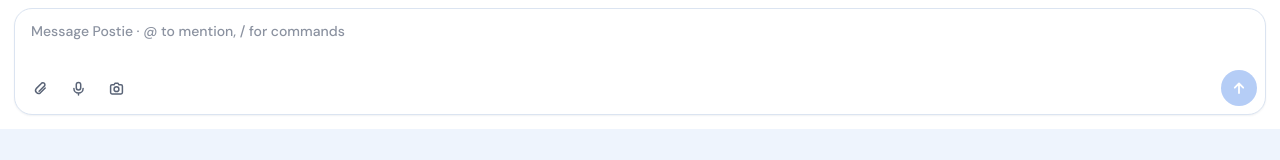
Test case: @ mentions in a one-to-one chat › draws a completed mention as a chip and says what it does on the hint line
The image size is (1280, 160).
Type "@father make Postie firmer" into the text box labelled "Message Postie · @ to mention, / for commands" at (640, 39), box [15,9,1265,68]
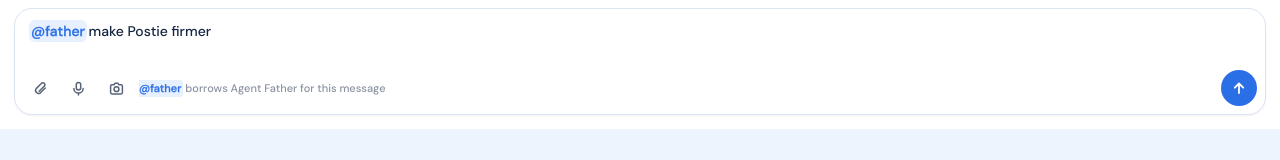
Now the text with class "cv-chip" next to "make Postie firmer" reads "@father", box [31,22,85,40]
Now the text "@father borrows Agent Father for this message" is shown, box [139,80,386,97]
Replace the text in the text box named "Message Postie" with "then @ledger checks it" at (640, 39), box [15,9,1265,68]
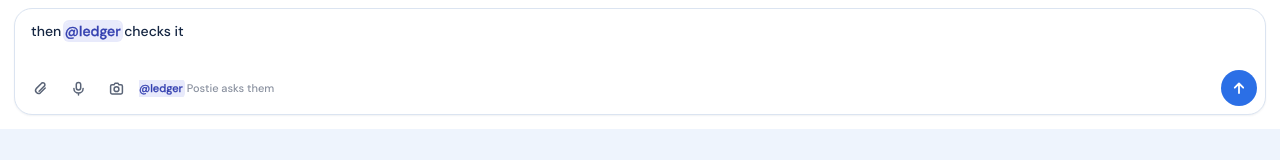
Now the text "@ledger Postie asks them" is shown, box [139,80,274,97]
Replace the text in the text box named "Message Postie" with "@nobody here" at (640, 39), box [15,9,1265,68]
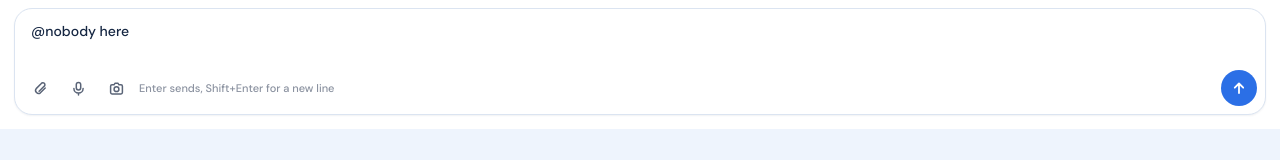
Now the text with class "cv-chip" is gone
